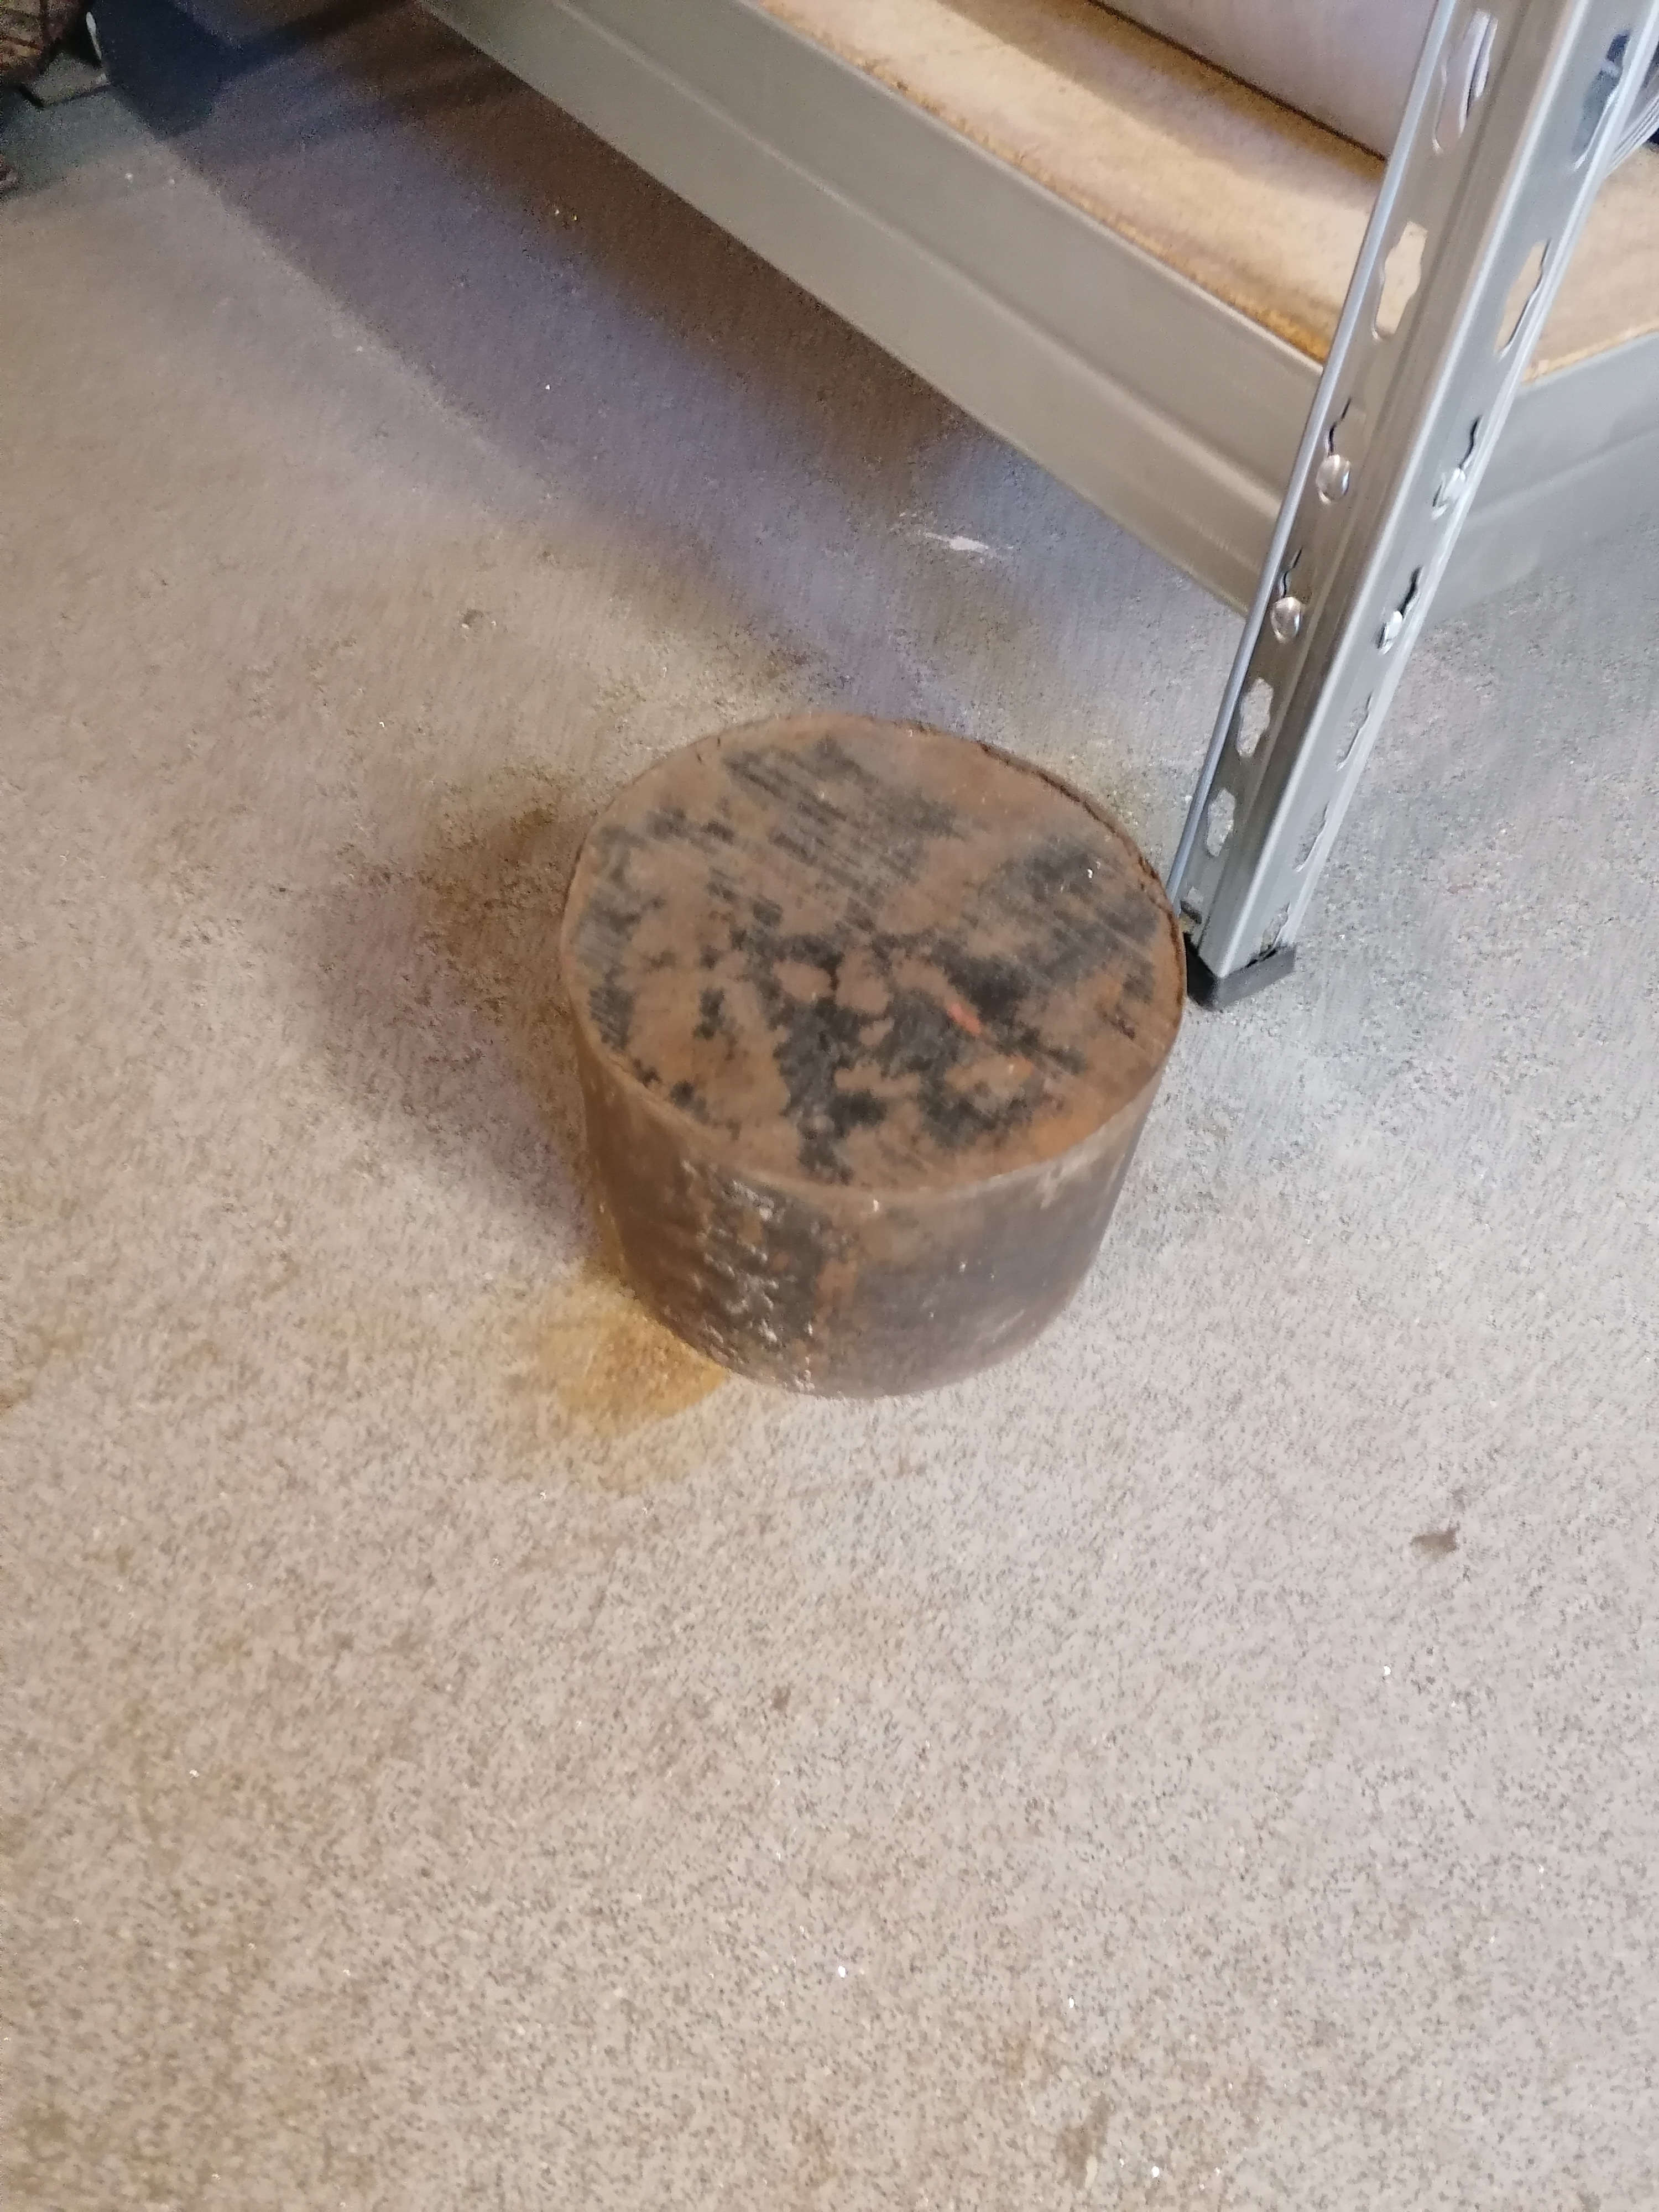lead_block: (556, 711, 1187, 1406)
